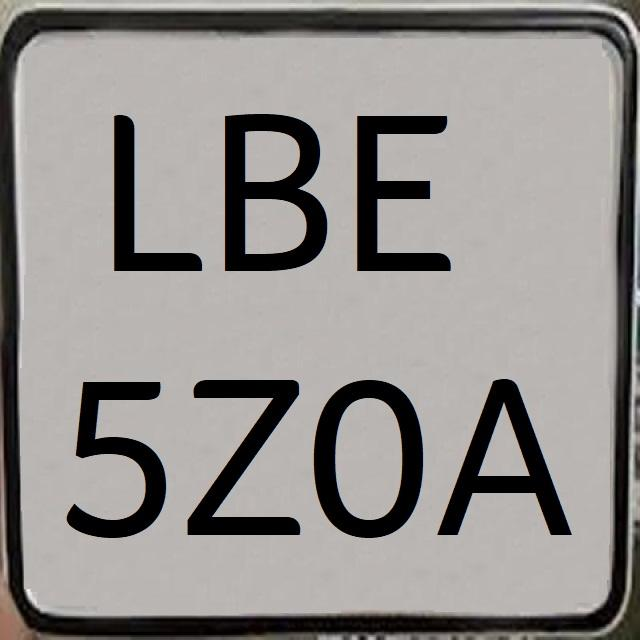5: (58, 359, 177, 551)
A: (434, 338, 574, 558)
B: (220, 100, 333, 280)
E: (349, 97, 457, 285)
L: (104, 96, 205, 282)
